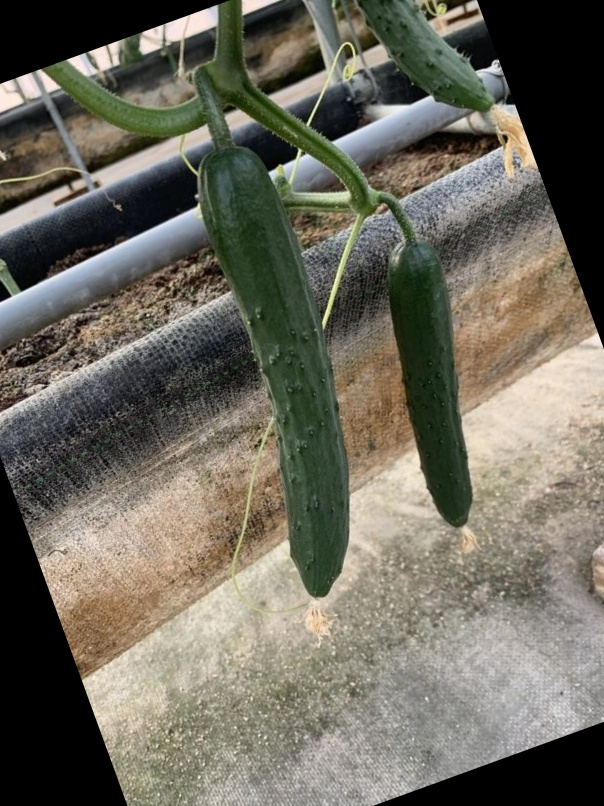mature: (191, 136, 358, 617), (385, 237, 480, 533)
